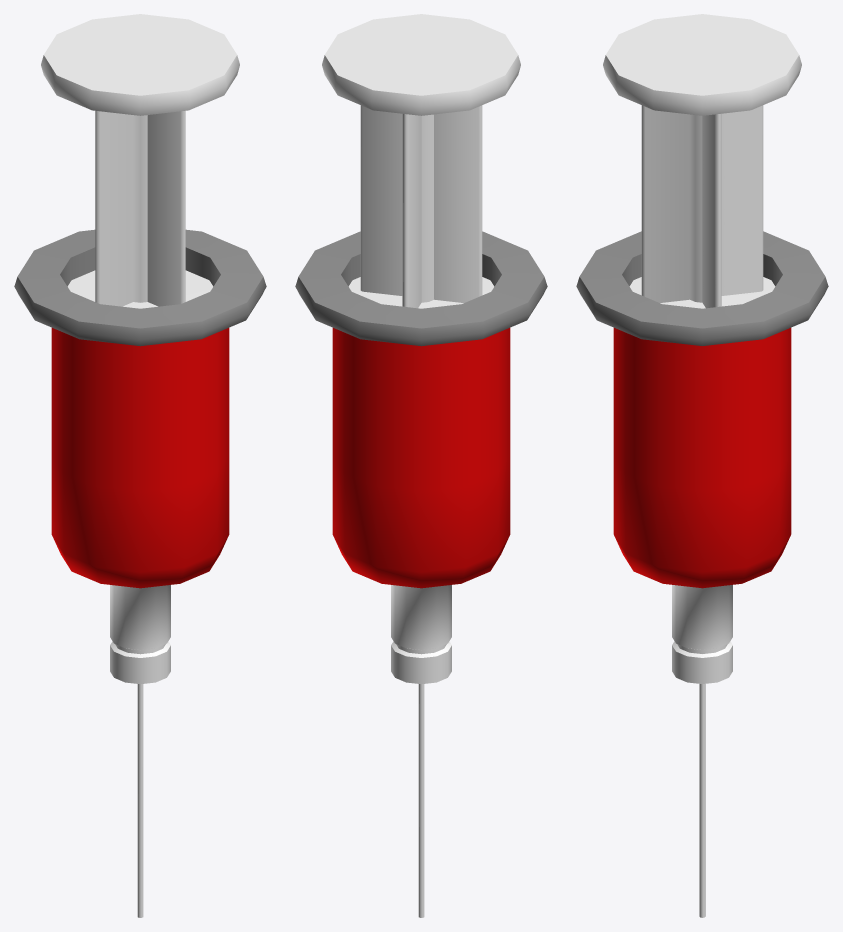
The model's file is syringe.FBX.
3 renders of one model, left to right at view 1: azimuth 30°, elevation 25°; view 2: azimuth 150°, elevation 25°; view 3: azimuth 270°, elevation 25°, orthographic.
Parts seen in each view (by area): view 1: Cylinder01; view 2: Cylinder01; view 3: Cylinder01.
Boxes of the visible parts, x1,y1,x2,y2 form: Cylinder01: (14, 14, 266, 917); Cylinder01: (295, 14, 547, 917); Cylinder01: (576, 14, 828, 917).
Size of the model in its own units: 28.42 by 107 by 28.42.
